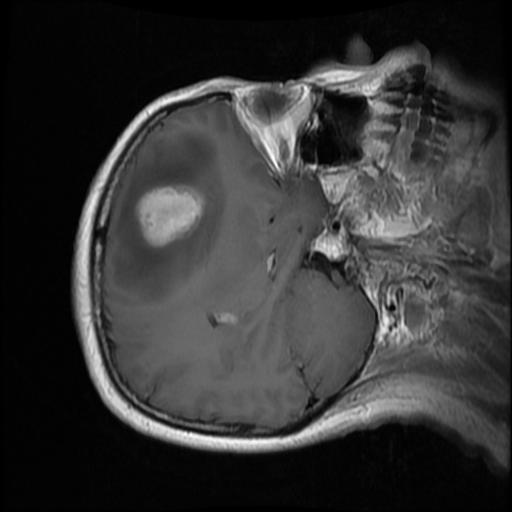meningioma: (133, 184, 204, 247)
